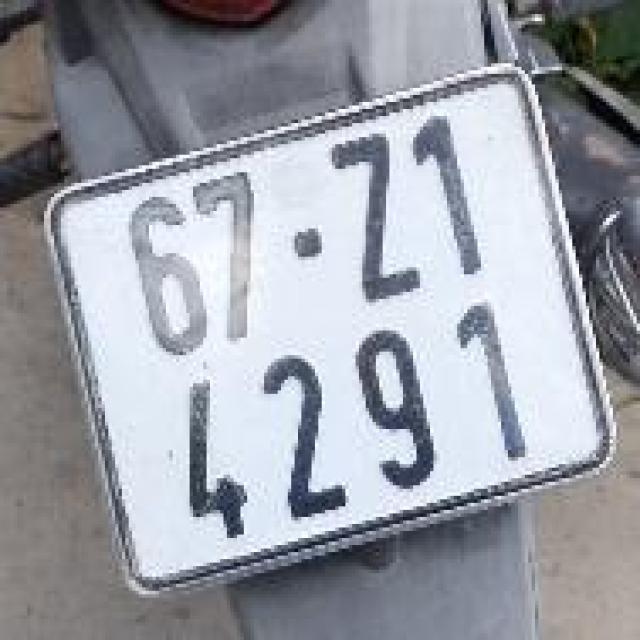1: (452, 297, 557, 470), (415, 105, 496, 278)
2: (264, 348, 356, 517)
4: (166, 374, 257, 547)
6: (120, 194, 212, 362)
7: (205, 164, 262, 354)
9: (352, 323, 444, 489)
Z: (330, 128, 422, 308)
